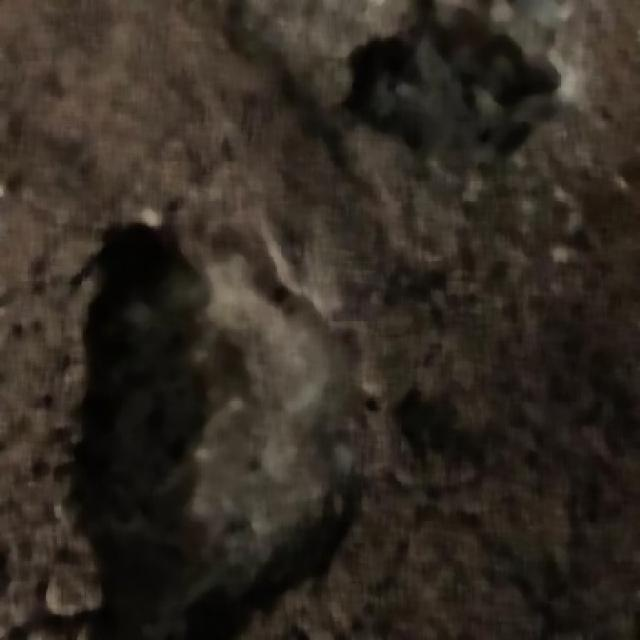Pothole: (80, 224, 329, 639), (352, 3, 543, 154)
